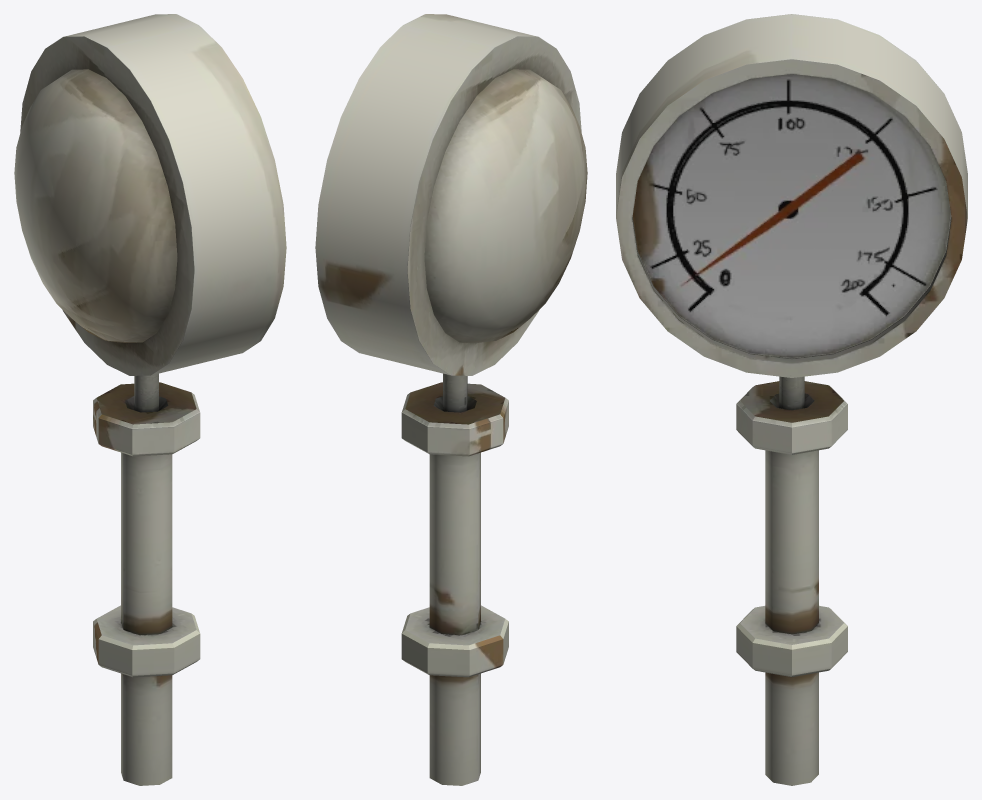
3 views of the same model, side by side, from view 1: azimuth 30°, elevation 25°; view 2: azimuth 150°, elevation 25°; view 3: azimuth 270°, elevation 25° (orthographic).
Parts seen in each view (by area): view 1: body0_model0_lod0_mesh0; view 2: body0_model0_lod0_mesh0; view 3: body0_model0_lod0_mesh0.
Part boxes in pixels (x1,y1,x2,y2): body0_model0_lod0_mesh0: [14, 14, 286, 785]; body0_model0_lod0_mesh0: [315, 14, 587, 785]; body0_model0_lod0_mesh0: [616, 14, 967, 785].
Size of the model in its own units: 5 by 23.07 by 9.92.
1 material, 1 textured.
